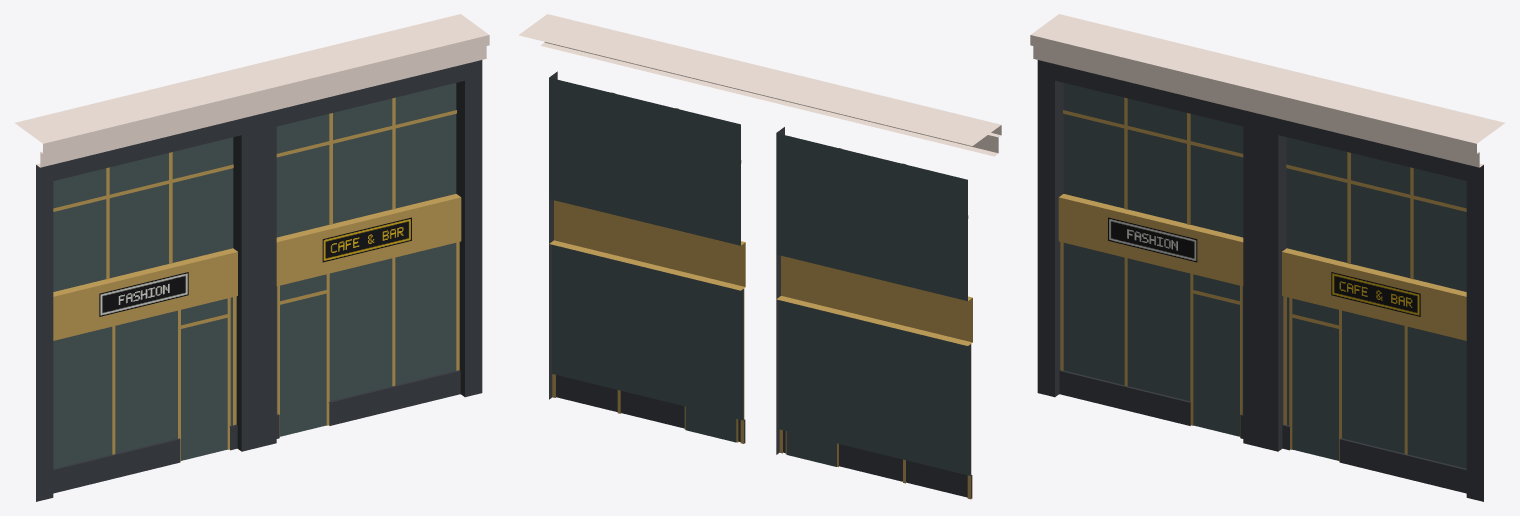
The picture shows the model from 3 angles, left to right: view 1: azimuth 30°, elevation 25°; view 2: azimuth 150°, elevation 25°; view 3: azimuth 330°, elevation 25°; orthographic projection.
Parts seen in each view (by area): view 1: a2011/600/base-w1; view 2: a2011/600/base-w1; view 3: a2011/600/base-w1.
Part boxes in pixels (x1,y1,x2,y2): a2011/600/base-w1: [15, 14, 489, 501]; a2011/600/base-w1: [519, 14, 1001, 499]; a2011/600/base-w1: [1030, 14, 1504, 501].
Bounding box in the file's own units: 9 × 7 × 1.
